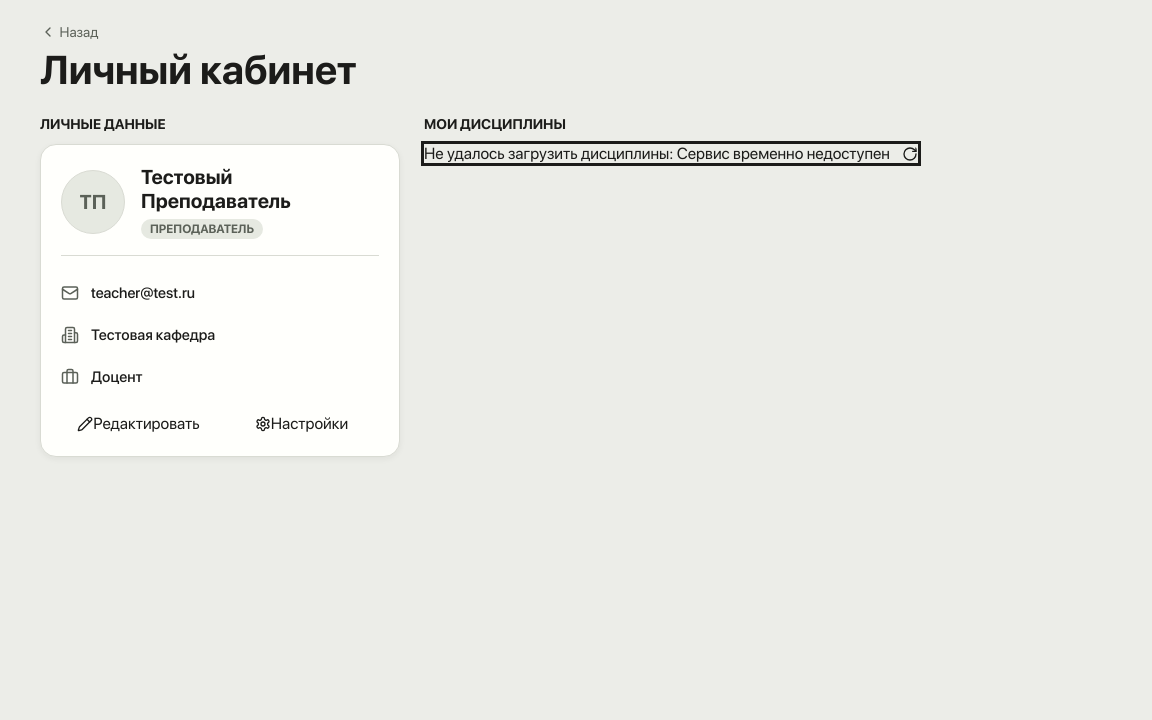
it: AccountPage › преподаватель › показывает ошибку загрузки дисциплин и после «Повторить» грузит их заново
This screenshot has width=1152, height=720.
Expected: the message "Не удалось загрузить дисциплины: Сервис временно недоступен" is shown, [424,144,918,163]
Click the button with class "account-page__retry": (910, 154) [902,144,918,163]
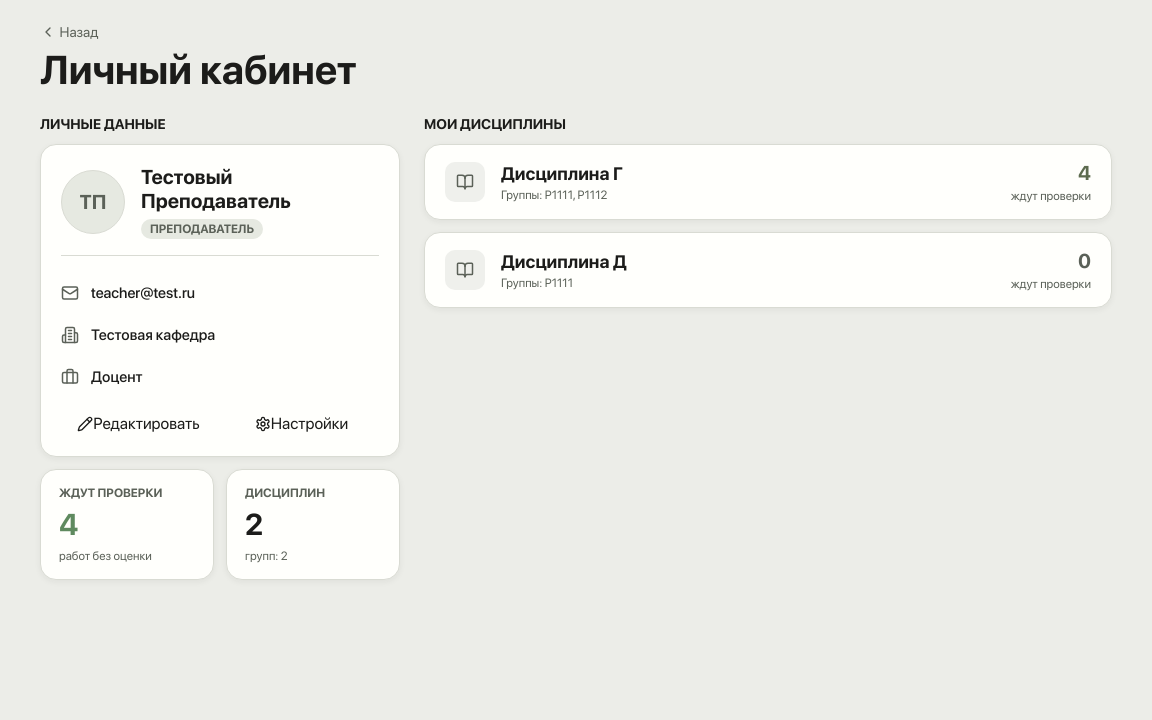
Result: the text "Дисциплина Г" is shown at [501,162,623,184]
